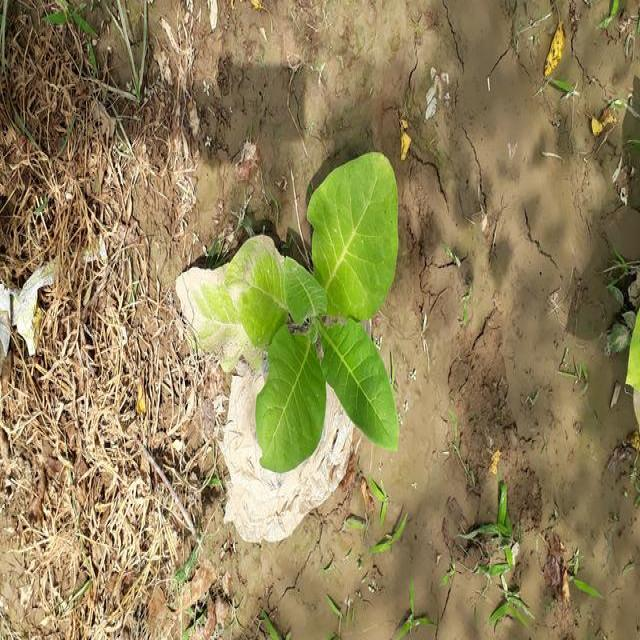crop: (175, 146, 411, 471)
